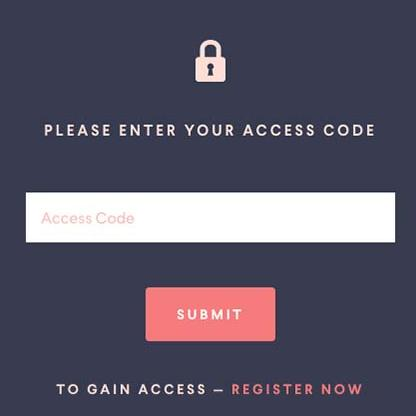button: (147, 286, 276, 345)
field: (25, 189, 396, 243)
